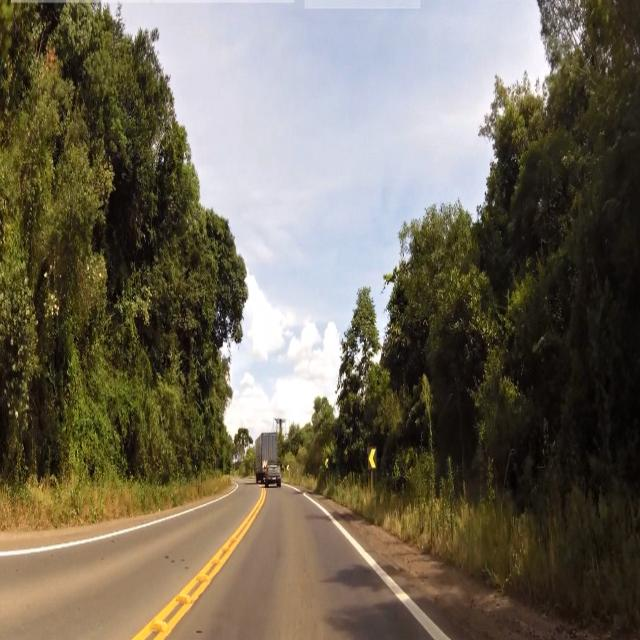Del: (368, 449, 379, 468), (323, 456, 330, 470)
